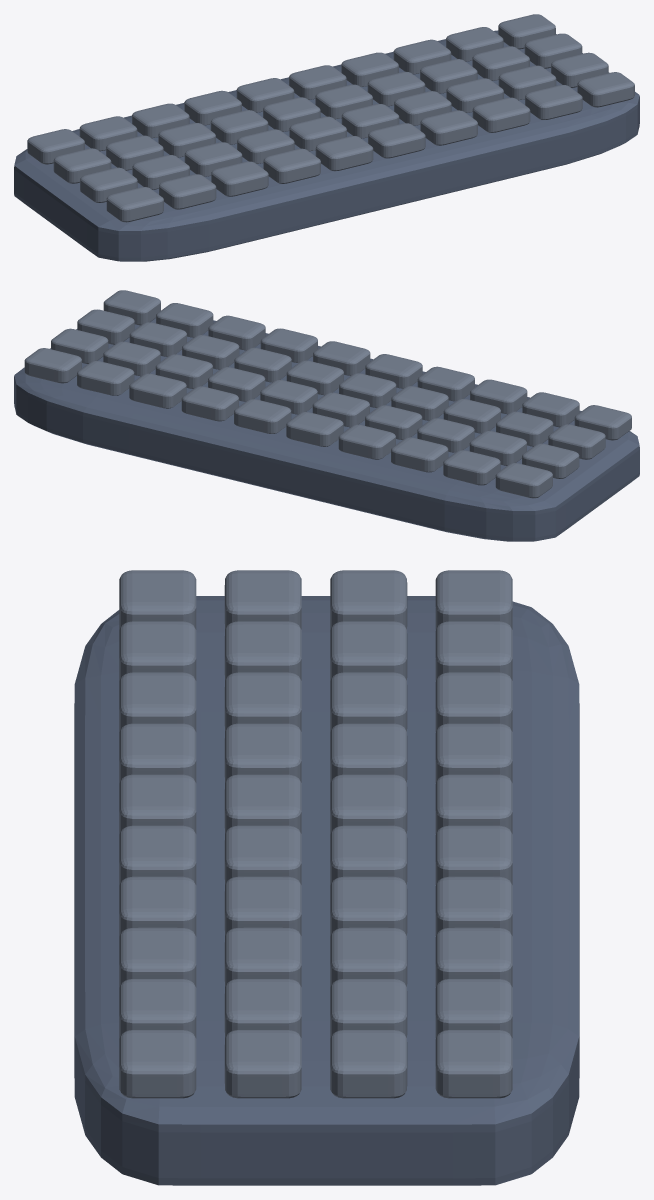
Rendered from keyboard.glb.
3 views of the same model, one above another, from view 1: azimuth 30°, elevation 25°; view 2: azimuth 150°, elevation 25°; view 3: azimuth 270°, elevation 25° (orthographic). The views are drawn at different scales.
Visible parts, largest first — view 1: base, key0_0, key0_7, key0_9, key0_1, key0_2, key0_4, key0_6, key0_3, key0_5, key0_8, key2_0 (+29 smaller); view 2: base, key3_0, key3_9, key3_1, key3_2, key3_6, key3_7, key3_3, key3_4, key3_5, key3_8, key0_0 (+29 smaller); view 3: base, key0_9, key3_9, key2_9, key1_9, key3_0, key0_0, key0_2, key0_1, key3_1, key0_6, key0_3 (+29 smaller).
Boxes of the visible parts, left/top/right/bottom form: base: left=14, top=30, right=639, bottom=261; key0_0: left=106, top=187, right=163, bottom=222; key0_7: left=472, top=97, right=530, bottom=132; key0_9: left=577, top=72, right=634, bottom=107; key0_1: left=159, top=174, right=216, bottom=209; key0_2: left=211, top=161, right=268, bottom=196; key0_4: left=315, top=136, right=373, bottom=171; key0_6: left=420, top=110, right=477, bottom=145; key0_3: left=263, top=148, right=320, bottom=183; key0_5: left=368, top=123, right=425, bottom=158; key0_8: left=525, top=85, right=582, bottom=119; key2_0: left=53, top=148, right=111, bottom=183; base: left=14, top=318, right=639, bottom=541; key3_0: left=495, top=463, right=552, bottom=498; key3_9: left=24, top=348, right=81, bottom=383; key3_1: left=443, top=450, right=500, bottom=485; key3_2: left=391, top=437, right=448, bottom=472; key3_6: left=181, top=386, right=238, bottom=421; key3_7: left=129, top=373, right=186, bottom=408; key3_3: left=338, top=424, right=395, bottom=459; key3_4: left=286, top=412, right=343, bottom=446; key3_5: left=234, top=399, right=291, bottom=433; key3_8: left=77, top=361, right=134, bottom=395; key0_0: left=574, top=405, right=631, bottom=440; base: left=74, top=596, right=579, bottom=1185; key0_9: left=119, top=1030, right=196, bottom=1098; key3_9: left=435, top=1030, right=512, bottom=1098; key2_9: left=330, top=1030, right=407, bottom=1098; key1_9: left=224, top=1030, right=301, bottom=1098; key3_0: left=435, top=570, right=512, bottom=629; key0_0: left=119, top=570, right=196, bottom=629; key0_2: left=119, top=672, right=196, bottom=731; key0_1: left=119, top=621, right=196, bottom=680; key3_1: left=435, top=621, right=512, bottom=680; key0_6: left=119, top=876, right=196, bottom=936; key0_3: left=119, top=723, right=196, bottom=782.
Size of the model in its own units: 0.57 by 0.0605 by 0.23.
